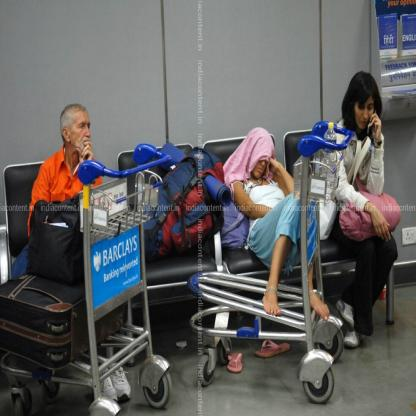airport-trolley: (190, 120, 354, 410), (0, 144, 173, 416)
